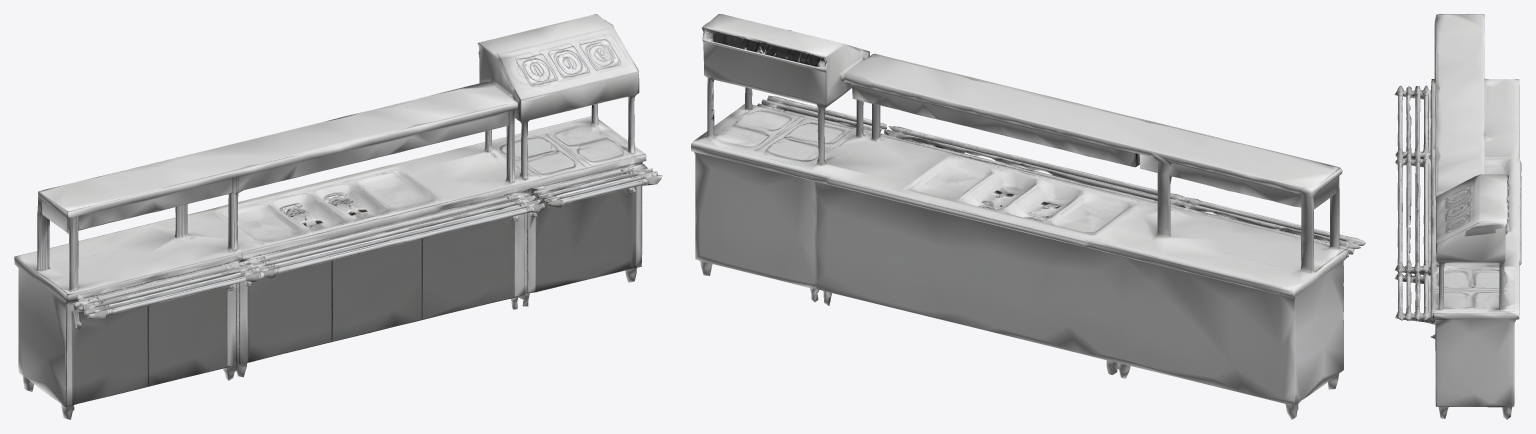
File: servishattı.fbx
The picture shows the model from 3 angles, left to right: view 1: azimuth 30°, elevation 25°; view 2: azimuth 150°, elevation 25°; view 3: azimuth 270°, elevation 25°; orthographic projection. The views are drawn at different scales.
Visible parts, largest first — view 1: Mesh_0; view 2: Mesh_0; view 3: Mesh_0.
Part boxes in pixels (<box>): Mesh_0: <box>14,14,662,419</box>; Mesh_0: <box>691,14,1365,419</box>; Mesh_0: <box>1394,14,1521,419</box>.
Size of the model in its own units: 191 by 75.9 by 43.88.
Materials: 1 (1 with a texture image).
